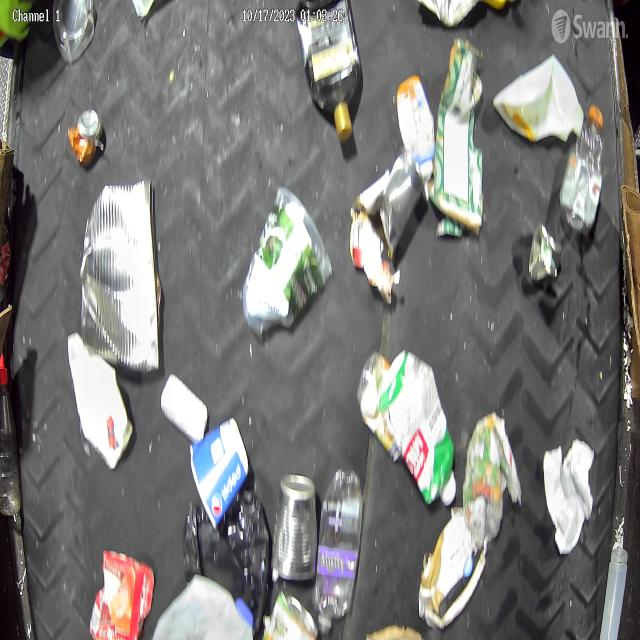can: (273, 474, 320, 584), (378, 155, 425, 254), (67, 110, 104, 169), (529, 225, 563, 282)
milk_jug: (493, 53, 584, 141), (145, 575, 255, 640)
plastic_bottle: (314, 469, 362, 633), (561, 110, 605, 238)
